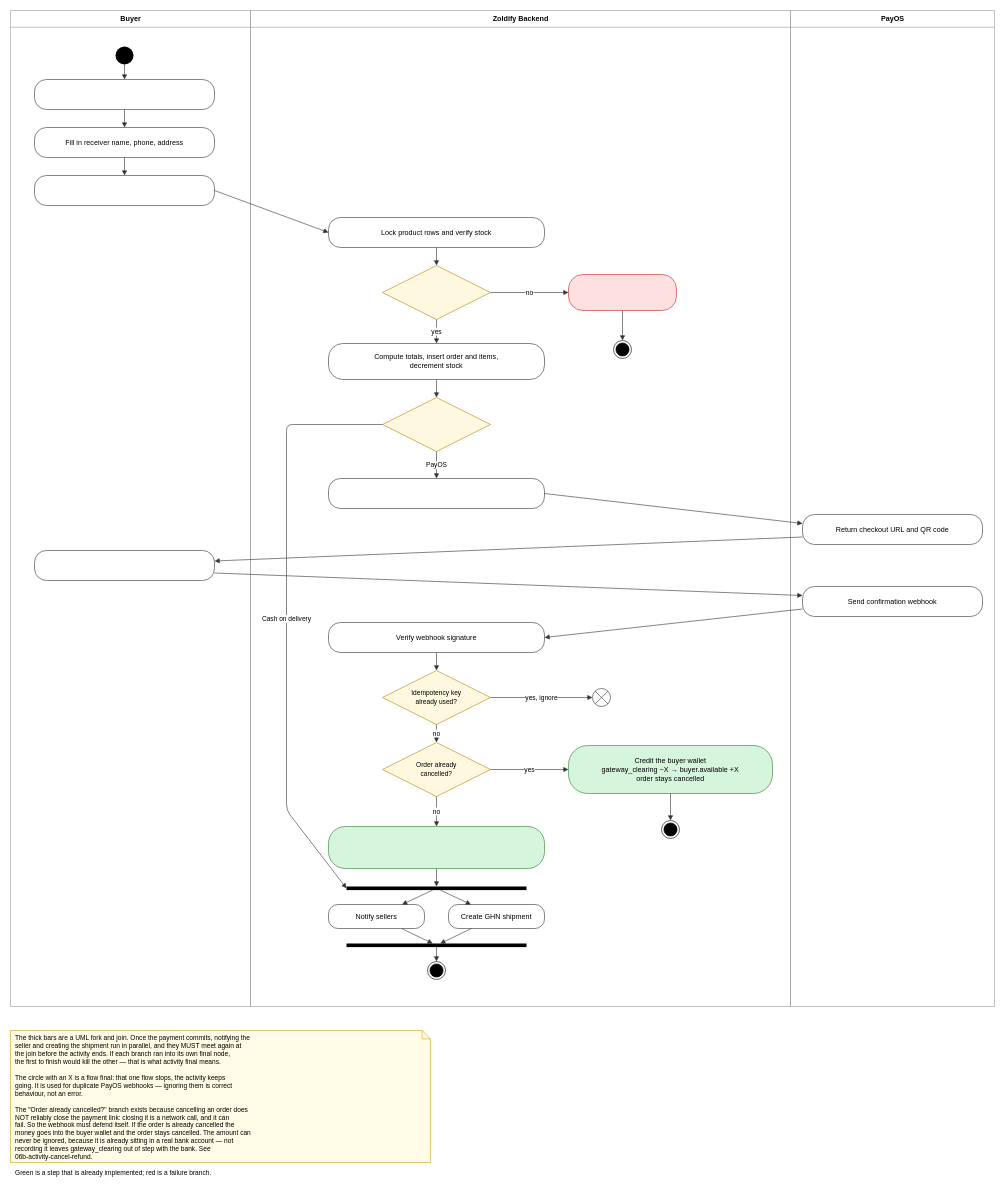
Image size: 1005x1187. Some labels were removed from this diagram. Each missing label, with the centre of its shape:
"All items in stock?" belongs at point 436,292.
"Choose payment method" belongs at point 124,190.
"Create PayOS payment link" belongs at point 436,493.
"ONE TRANSACTION ledger entries · order marked paid · escrow rows per seller" belongs at point 436,847.
"Pay on the PayOS page" belongs at point 124,565.
"Payment method?" belongs at point 436,424.
"Review cart and press Checkout" belongs at point 124,94.
"Roll back, no order created" belongs at point 622,292.
